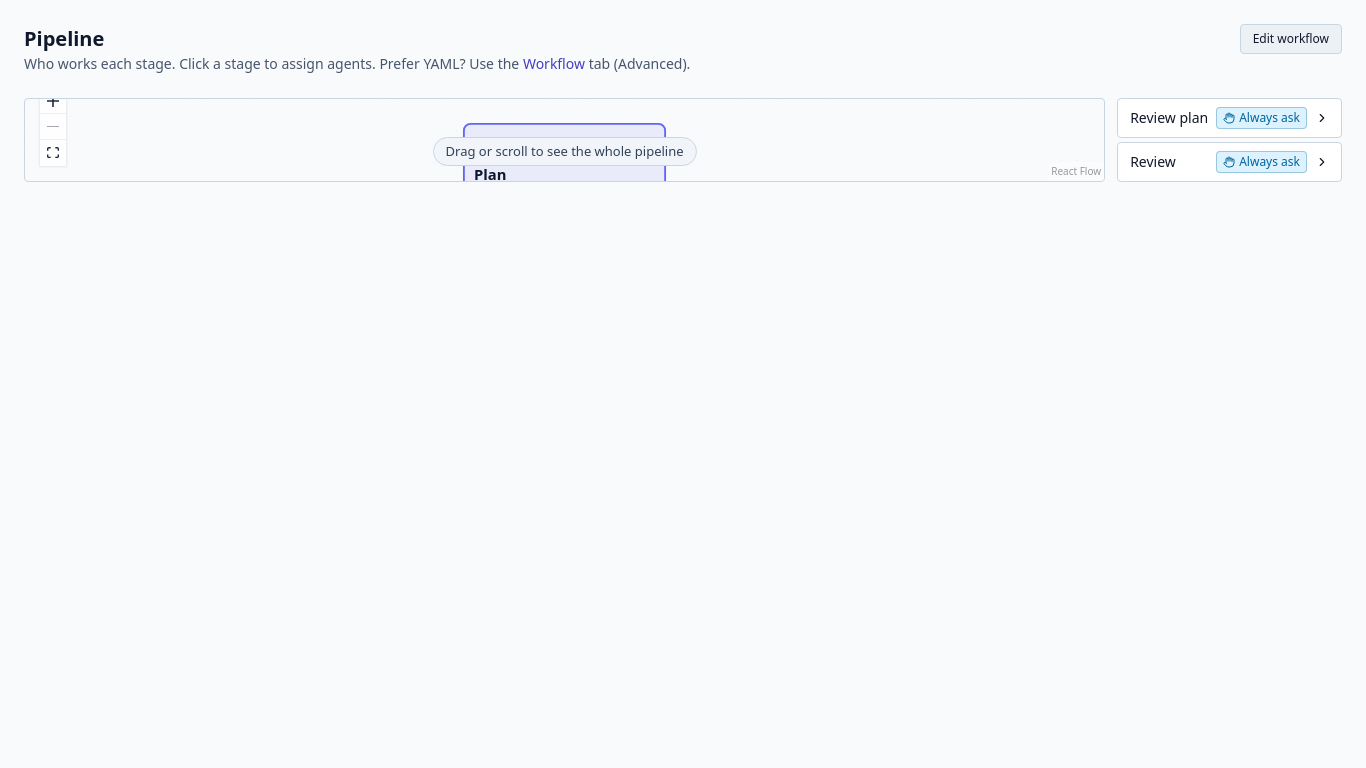
Test: Pipeline gates › phones list gates and open a bottom sheet
This screenshot has width=1366, height=768.
Click the button "Review Always ask": x=1230, y=162 [1117,142,1342,182]
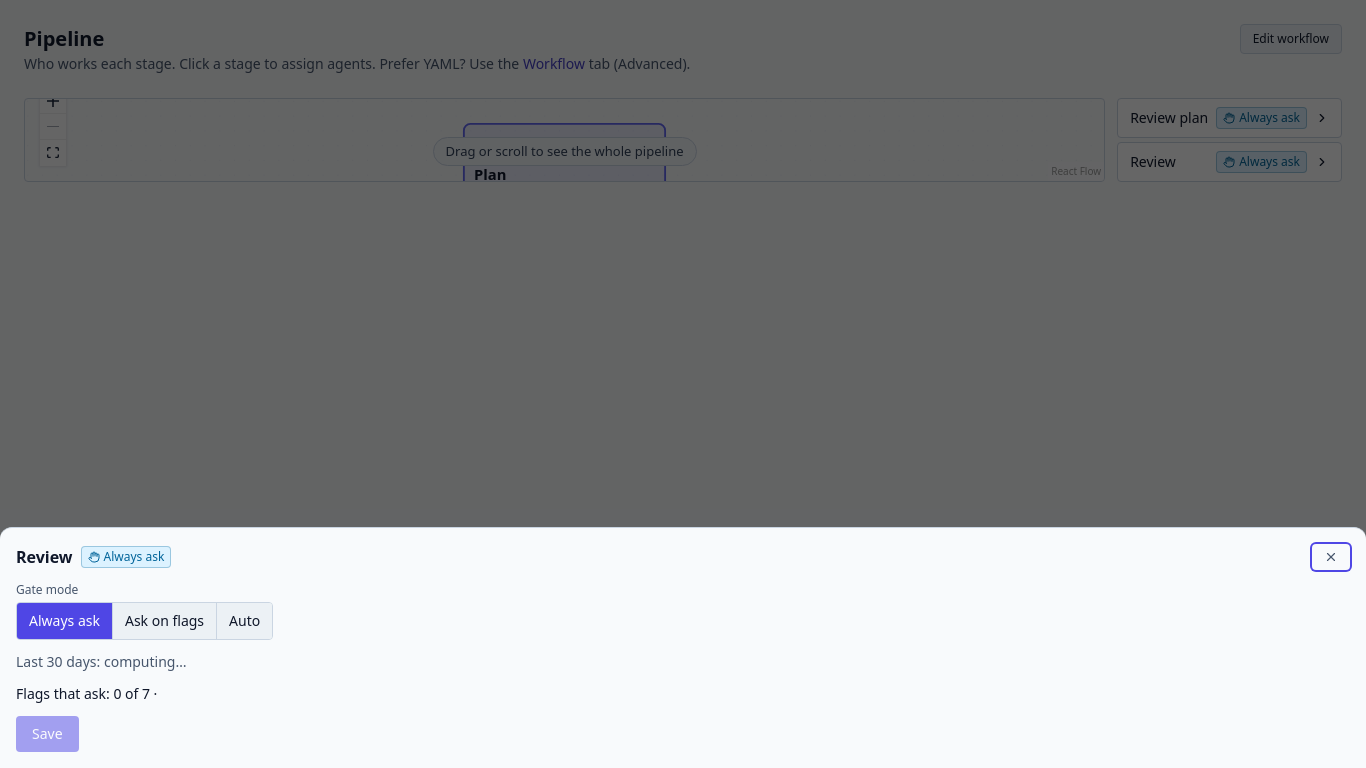
Check: the dialog named "gate settings: review" is shown
